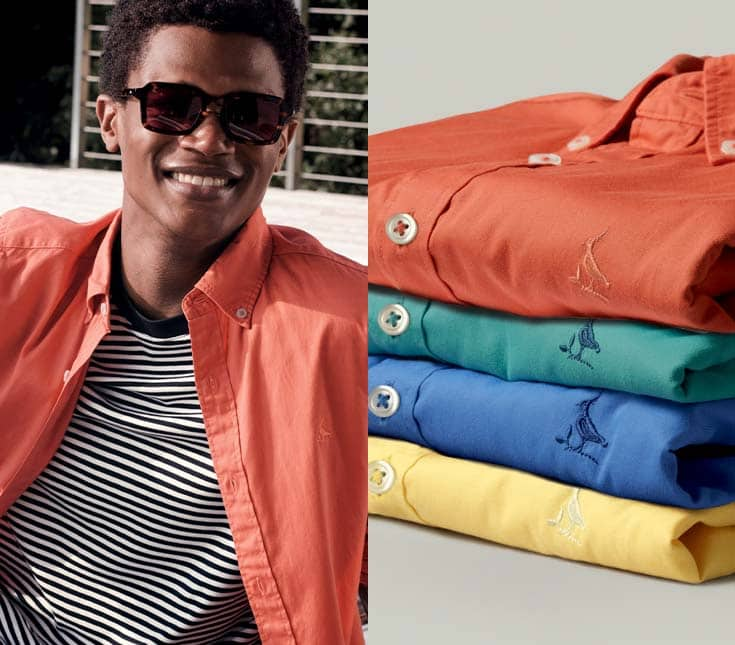long-sleeved official shirt: (366, 55, 733, 585), (2, 208, 371, 641)
